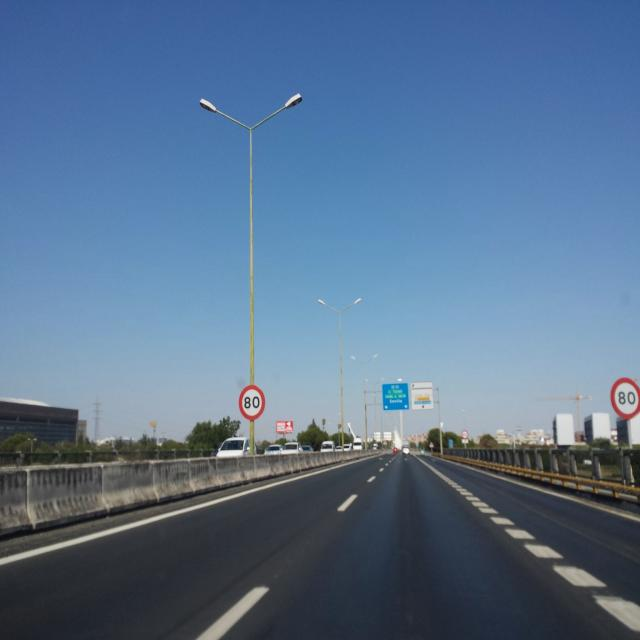car: (216, 437, 257, 459), (282, 442, 304, 455), (264, 444, 284, 456), (320, 440, 336, 452), (301, 444, 314, 453), (402, 446, 411, 456), (392, 446, 399, 455)
